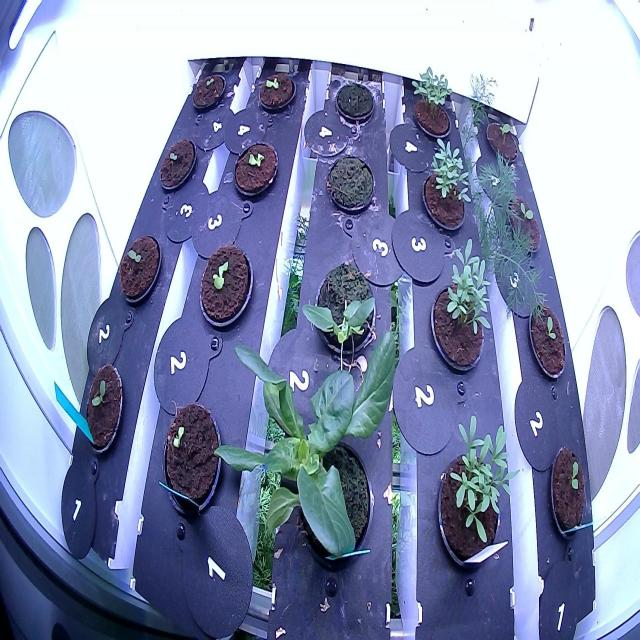germination: (160, 399, 223, 522), (195, 238, 256, 338), (543, 440, 590, 544), (81, 356, 125, 455), (525, 293, 570, 386), (118, 228, 164, 308), (230, 135, 281, 206), (502, 187, 545, 262), (156, 132, 198, 198), (482, 112, 521, 168), (189, 68, 230, 118), (256, 69, 297, 115)
pod: (210, 304, 408, 598), (297, 238, 395, 386)
